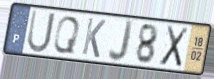8: (134, 23, 160, 66)
J: (107, 18, 136, 65)
K: (80, 16, 108, 60)
Q: (51, 15, 82, 56)
U: (25, 9, 57, 55)
X: (158, 24, 191, 69)
